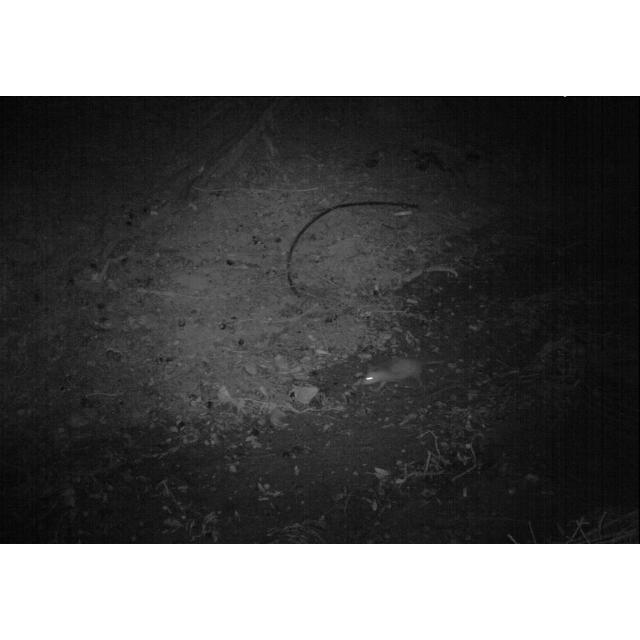animals: (358, 360, 444, 394)
